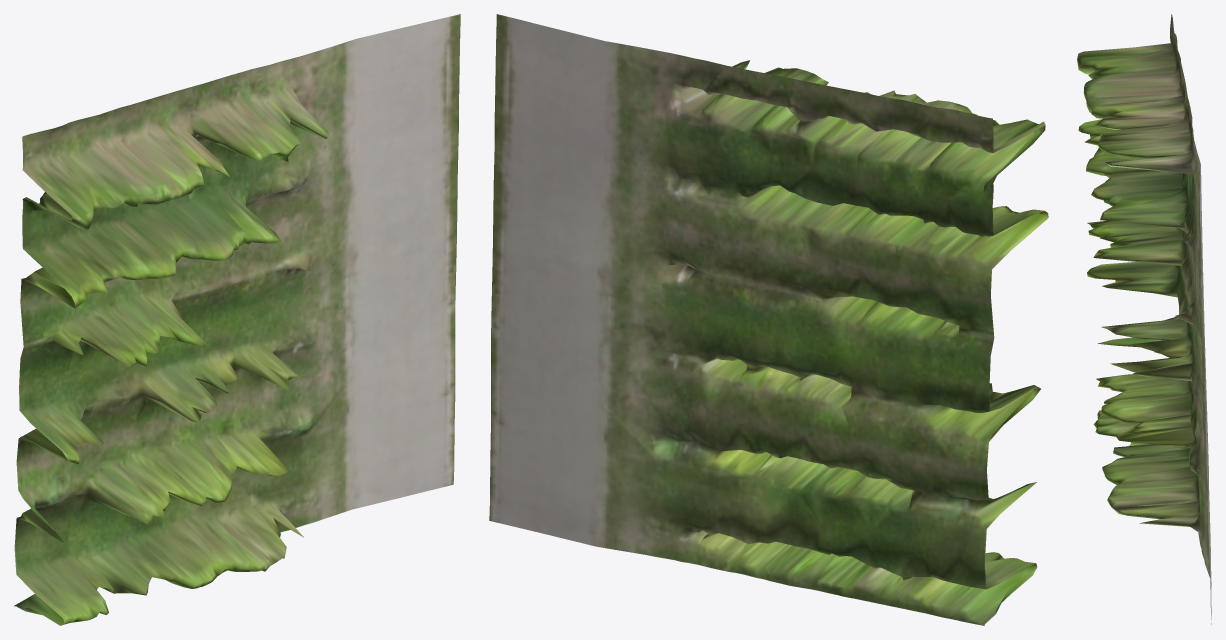
File: map_150_80.obj
3 views of the same model, side by side, from view 1: azimuth 30°, elevation 25°; view 2: azimuth 150°, elevation 25°; view 3: azimuth 270°, elevation 25° (orthographic). The views are drawn at different scales.
Size of the model in its own units: 10 by 10 by 2.93.
1 material, 1 textured.
